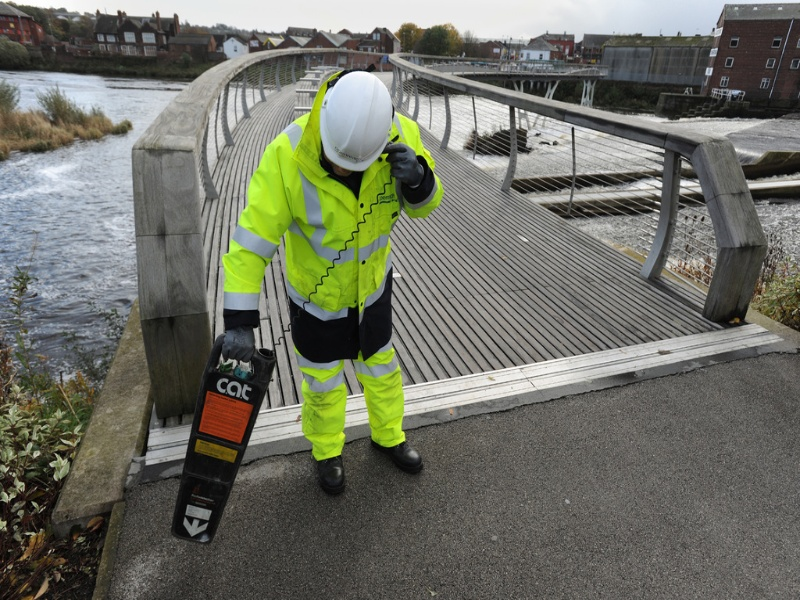helmet: (324, 68, 388, 171)
jacket: (261, 123, 424, 300)
